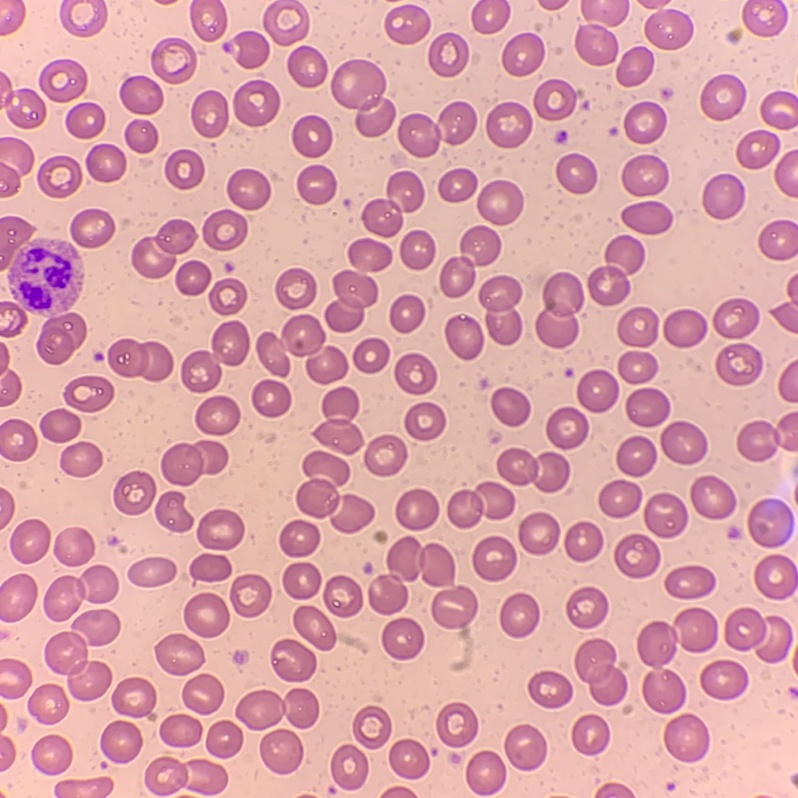RBC: (0, 217, 86, 364), (369, 537, 477, 638), (637, 608, 717, 713), (331, 60, 395, 136), (181, 321, 249, 392), (45, 632, 111, 700), (398, 102, 476, 157), (44, 565, 118, 620), (257, 315, 324, 375), (587, 235, 644, 305), (362, 171, 423, 236), (132, 219, 195, 278), (725, 608, 792, 662), (536, 272, 583, 348), (297, 451, 349, 517), (575, 639, 626, 705), (236, 689, 318, 730), (325, 270, 377, 332), (315, 387, 362, 454), (145, 757, 227, 795), (497, 449, 569, 492), (447, 482, 514, 528), (161, 440, 227, 485), (737, 412, 797, 461), (479, 276, 521, 344), (108, 339, 172, 381), (0, 74, 45, 128), (664, 714, 709, 762), (233, 80, 279, 126), (748, 499, 792, 547), (263, 0, 308, 45), (486, 102, 531, 147), (39, 59, 86, 102), (660, 421, 707, 464), (151, 38, 195, 83), (701, 74, 745, 119), (477, 180, 522, 224), (614, 534, 659, 578), (472, 536, 516, 581), (184, 593, 229, 637), (690, 476, 735, 519), (716, 343, 762, 385), (156, 634, 203, 675), (644, 493, 687, 537), (622, 155, 668, 196), (755, 555, 797, 599), (293, 606, 335, 650), (271, 639, 315, 681), (260, 729, 302, 773), (505, 725, 546, 770), (197, 509, 243, 549), (701, 660, 747, 700), (645, 10, 692, 49), (37, 156, 81, 197), (703, 174, 744, 218), (436, 703, 477, 747), (100, 721, 142, 763), (114, 471, 155, 514), (230, 574, 271, 617), (385, 5, 430, 44), (713, 299, 758, 338), (502, 33, 543, 75), (534, 79, 576, 120), (624, 102, 666, 143), (577, 370, 618, 412), (396, 489, 438, 530), (428, 33, 468, 76), (227, 169, 270, 209), (203, 210, 246, 250), (466, 751, 505, 795), (191, 91, 228, 137), (0, 574, 36, 621), (546, 407, 587, 448), (518, 513, 559, 554), (566, 587, 607, 628), (382, 618, 423, 659), (575, 25, 617, 65), (65, 376, 113, 411), (364, 435, 406, 475), (626, 388, 669, 427), (196, 396, 239, 435), (10, 520, 49, 563), (500, 594, 539, 637), (112, 678, 155, 717), (445, 315, 483, 359), (60, 0, 106, 36), (395, 354, 436, 394), (71, 209, 114, 247), (331, 745, 368, 789), (742, 0, 787, 36), (622, 201, 671, 234), (73, 610, 119, 645), (276, 268, 316, 308), (665, 566, 715, 598), (183, 674, 223, 714), (28, 684, 68, 724), (389, 739, 429, 779), (287, 46, 326, 87), (292, 116, 331, 157), (120, 76, 162, 114), (737, 130, 779, 168), (664, 309, 706, 347), (353, 706, 391, 748), (529, 671, 572, 708), (556, 154, 596, 193), (460, 226, 500, 265), (617, 436, 656, 476), (324, 576, 362, 617), (599, 480, 641, 517), (618, 307, 657, 346), (32, 735, 71, 774), (405, 402, 445, 440), (54, 528, 94, 566), (332, 495, 373, 532), (165, 150, 203, 189), (297, 165, 335, 204), (759, 220, 797, 259), (155, 491, 192, 531), (572, 715, 609, 755), (190, 0, 226, 41), (306, 347, 347, 383), (0, 419, 36, 460), (491, 388, 529, 426), (616, 47, 653, 86), (86, 144, 125, 181), (565, 522, 602, 561), (280, 520, 319, 556), (61, 442, 102, 476), (761, 91, 797, 129), (252, 380, 290, 416), (440, 257, 474, 297), (160, 714, 201, 747), (129, 557, 175, 586), (283, 563, 320, 599), (206, 721, 242, 758), (66, 103, 104, 138), (400, 230, 434, 269), (40, 409, 80, 442), (349, 239, 391, 270), (209, 279, 246, 314), (774, 276, 797, 332), (390, 295, 424, 332), (353, 338, 388, 373), (581, 0, 628, 26), (472, 0, 509, 33), (236, 31, 269, 68), (618, 351, 656, 383), (0, 659, 31, 698), (439, 169, 476, 201), (176, 261, 210, 295), (0, 137, 33, 172), (55, 777, 112, 797), (190, 554, 231, 581), (125, 120, 157, 152), (775, 150, 797, 196), (0, 0, 24, 35), (779, 362, 797, 402), (0, 374, 20, 406), (0, 164, 19, 197), (596, 783, 632, 797), (0, 489, 13, 527), (0, 737, 14, 770), (383, 787, 414, 797), (540, 0, 564, 9), (0, 344, 8, 371), (641, 0, 665, 8), (728, 30, 741, 42), (555, 130, 567, 143), (234, 651, 247, 663), (729, 527, 741, 538), (375, 531, 386, 542), (0, 708, 6, 728), (449, 754, 460, 763), (224, 42, 233, 52), (661, 88, 671, 97), (0, 302, 6, 313), (791, 688, 797, 698), (792, 774, 797, 785), (793, 658, 797, 667)
